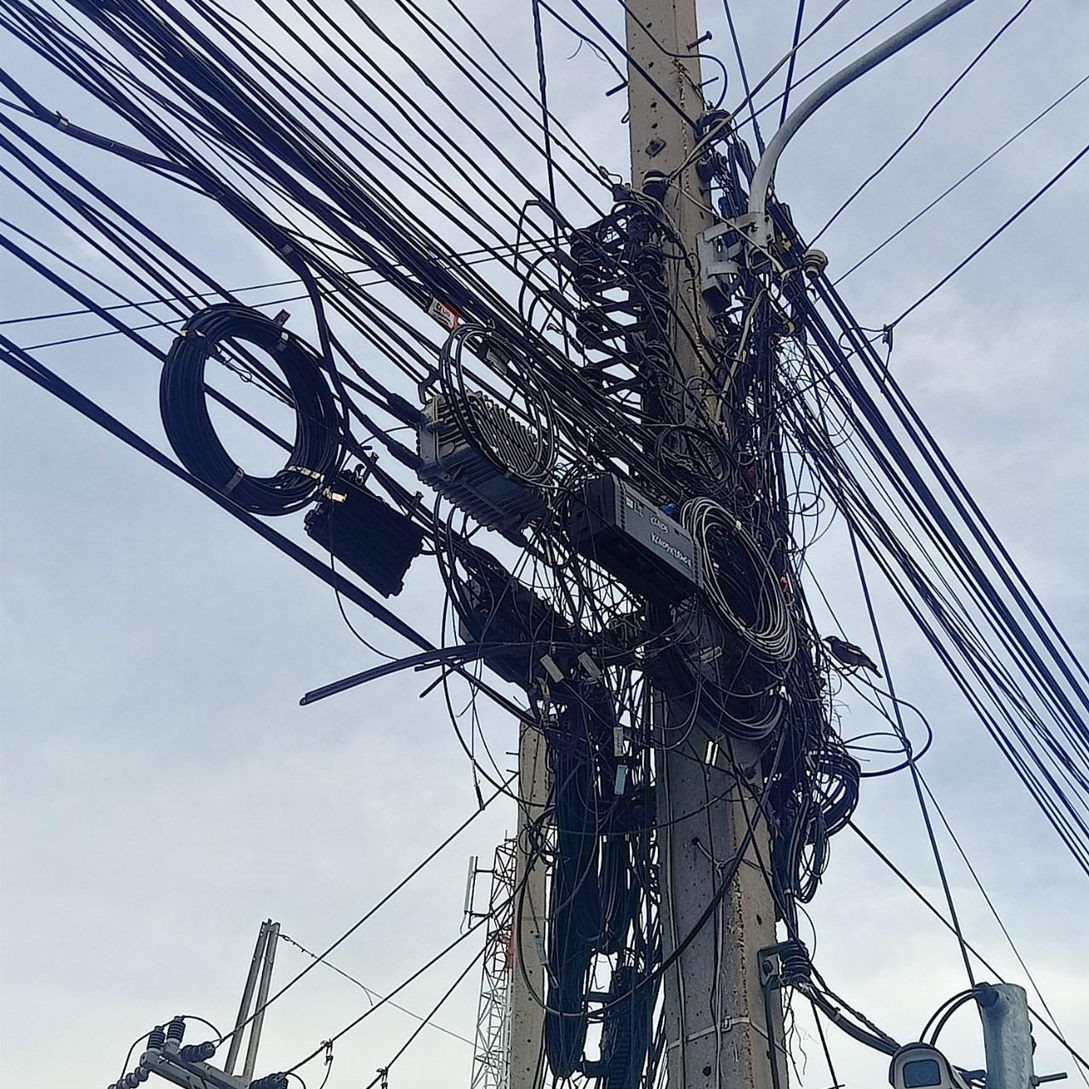wires-only: (1, 6, 633, 1089), (778, 6, 1089, 1089)
